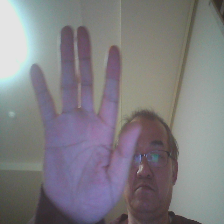hand: (33, 22, 144, 221)
